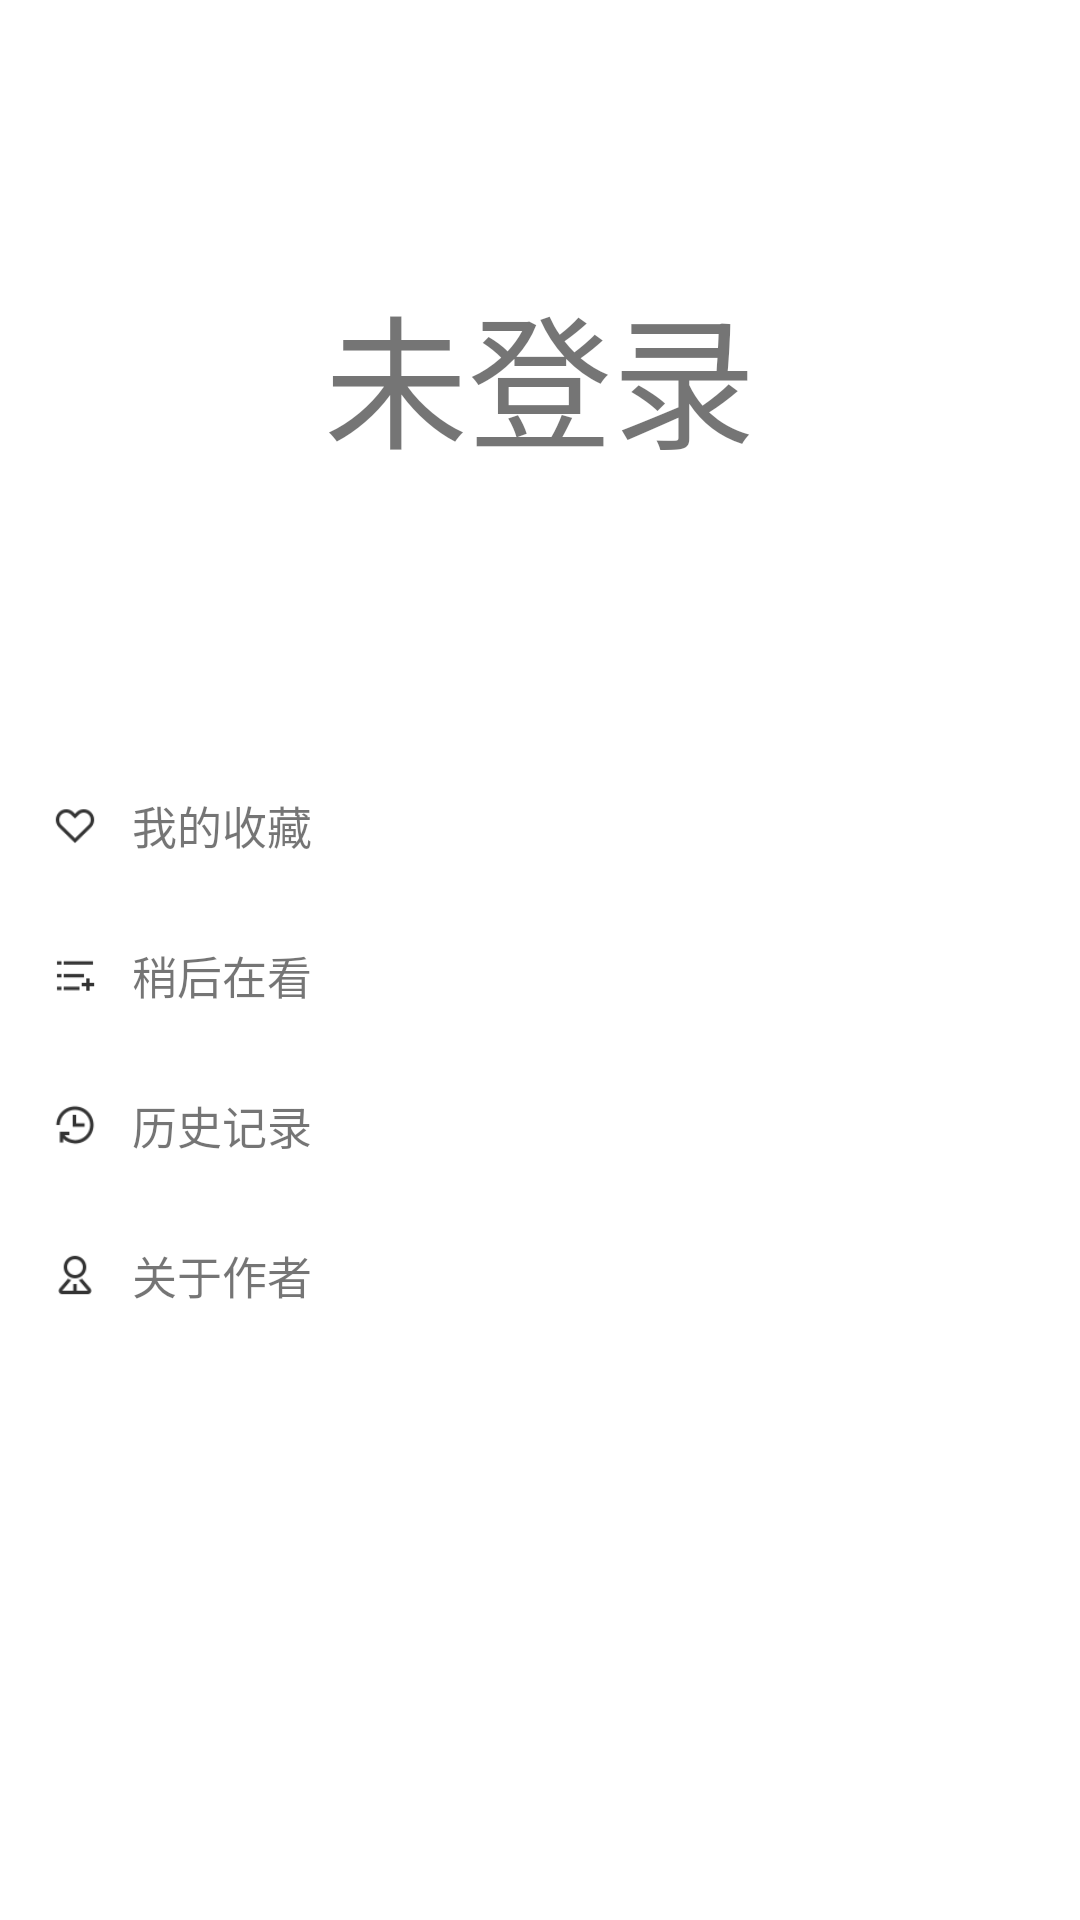

Icon click points for this 1080x1920 phone screenshot, format point (x, y):
about: point (75, 1275)
favorites: point (75, 826)
history: point (75, 1125)
read later: point (76, 976)
